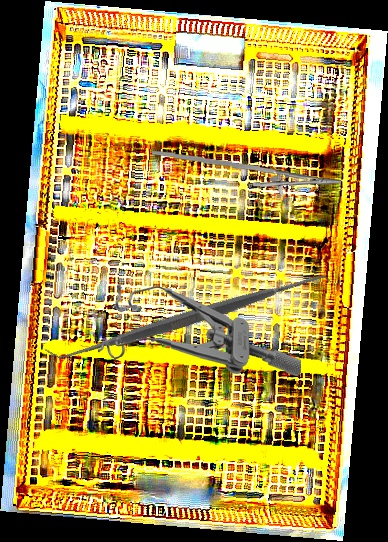Needle Holder: (150, 148, 342, 201)
Spatula Surgical: (42, 168, 338, 466)
Speculum: (97, 282, 303, 377)
